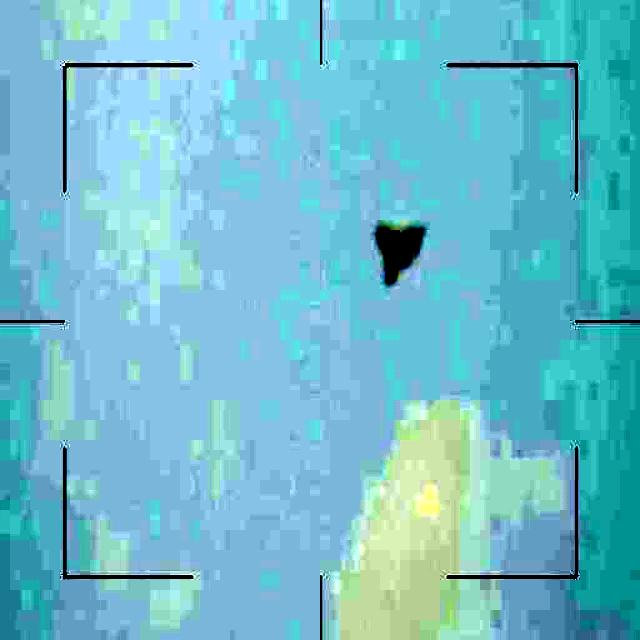bird: (378, 211, 428, 292)
